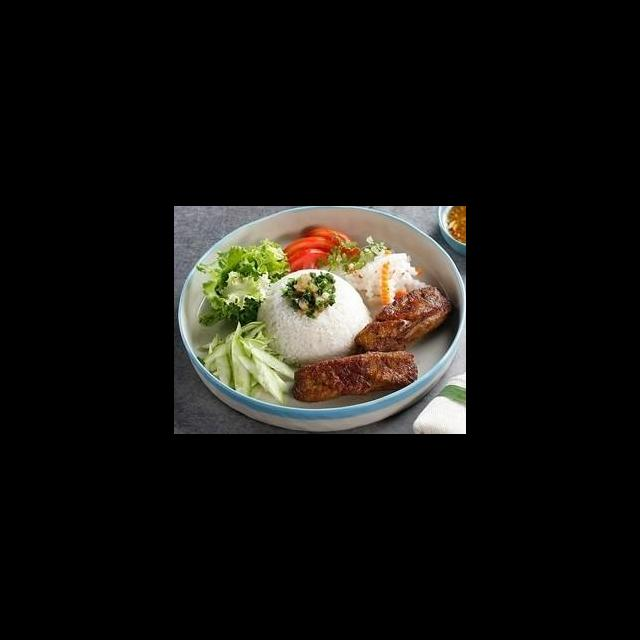com: (255, 267, 374, 366)
com suon: (198, 222, 464, 434)
dua chua: (342, 248, 433, 308)
suon: (352, 285, 453, 358), (290, 350, 420, 404)
